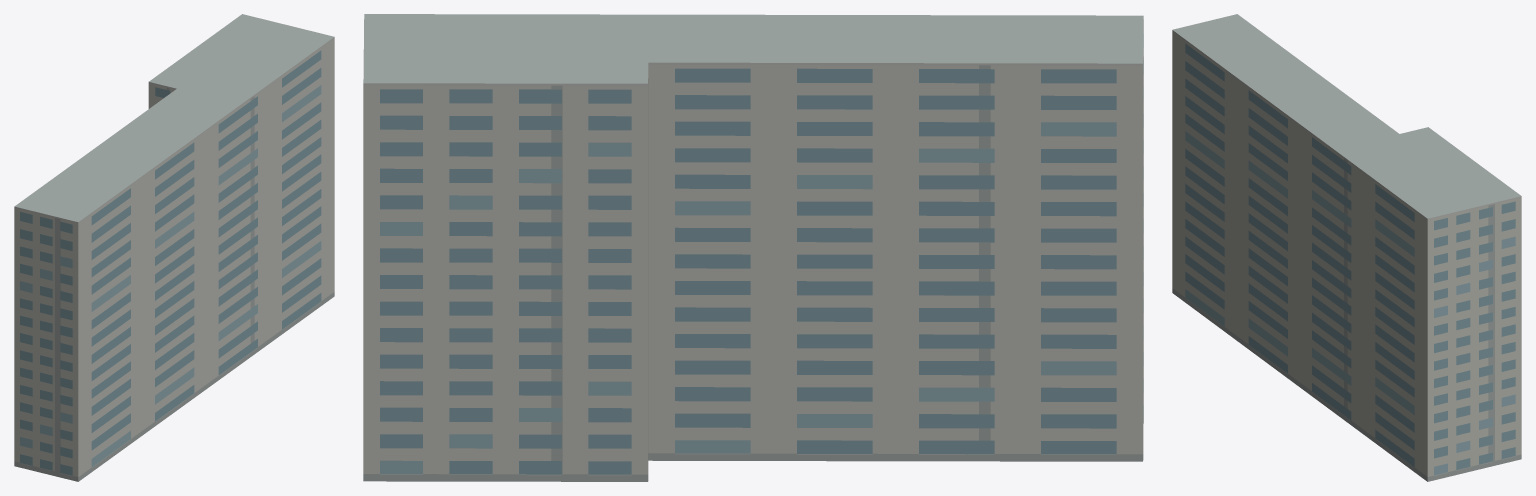
Rendered from residential-f67e5e98-596a-4b61-8358-c17b8fd22798.glb.
3 views of the same model, side by side, from view 1: azimuth 30°, elevation 25°; view 2: azimuth 150°, elevation 25°; view 3: azimuth 270°, elevation 25° (orthographic). The views are drawn at different scales.
Parts seen in each view (by area): view 1: residential-f67e5e98-596a-4b61-8358-c17b8fd22798.tmp; view 2: residential-f67e5e98-596a-4b61-8358-c17b8fd22798.tmp; view 3: residential-f67e5e98-596a-4b61-8358-c17b8fd22798.tmp.
Boxes of the visible parts, <box> form: residential-f67e5e98-596a-4b61-8358-c17b8fd22798.tmp: <box>14,14,334,481</box>; residential-f67e5e98-596a-4b61-8358-c17b8fd22798.tmp: <box>363,14,1143,481</box>; residential-f67e5e98-596a-4b61-8358-c17b8fd22798.tmp: <box>1172,14,1521,481</box>.
Size of the model in its own units: 76.36 by 45.75 by 55.07.
